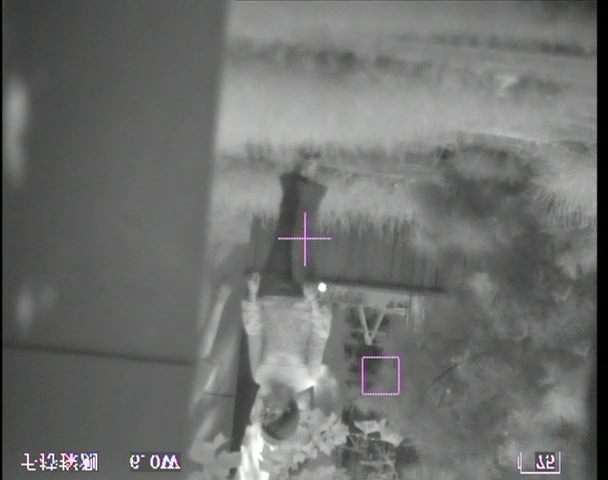my: (317, 281, 327, 293)
